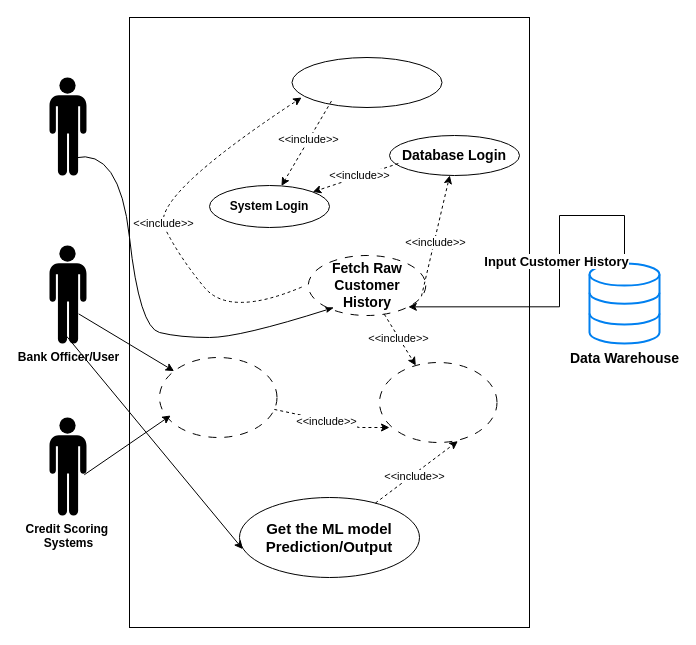
Some shapes in this 696 by 645 pixel diagram are drawn without their labels. The box of each missing label's shape, as (x1, y1, x2, y2) in pixels:
Data Engineer/ Data Analyst: (49, 77, 86, 175)
Generate Aggregated Customer Data: (378, 362, 497, 442)
Get the Aggregated Customer Data: (158, 356, 277, 438)
User input: Customer ID: (291, 56, 442, 108)
